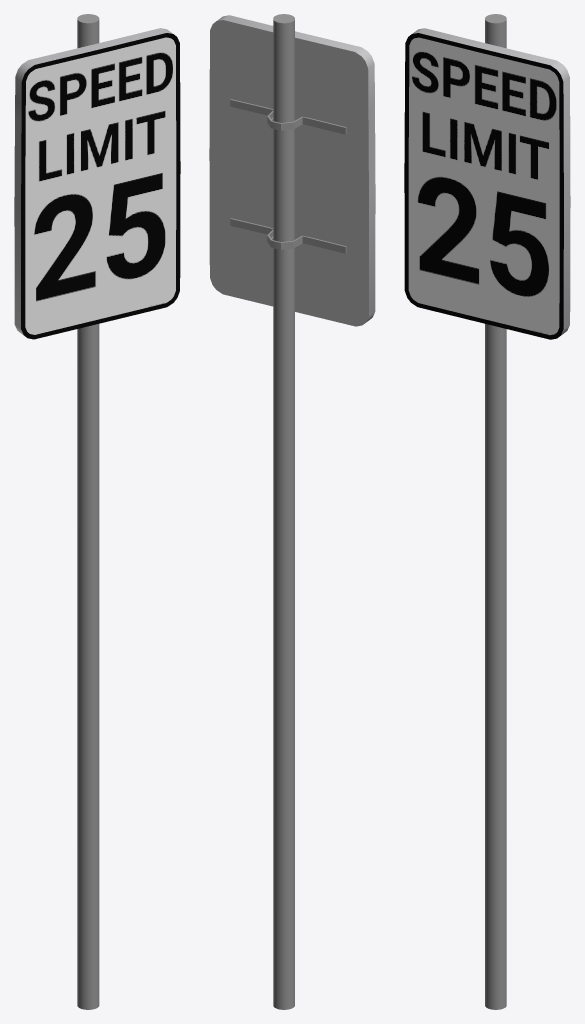
The model's file is SpeedLimit25.fbx.
The picture shows the model from 3 angles, left to right: view 1: azimuth 30°, elevation 25°; view 2: azimuth 150°, elevation 25°; view 3: azimuth 330°, elevation 25°; orthographic projection.
Visible parts, largest first — view 1: NGon001.001; view 2: NGon001.001; view 3: NGon001.001.
Part boxes in pixels (bbox=[...]): NGon001.001: bbox=[14, 14, 180, 1009]; NGon001.001: bbox=[209, 14, 375, 1009]; NGon001.001: bbox=[404, 14, 570, 1009].
Size of the model in its own units: 50.08 by 296 by 10.89.
